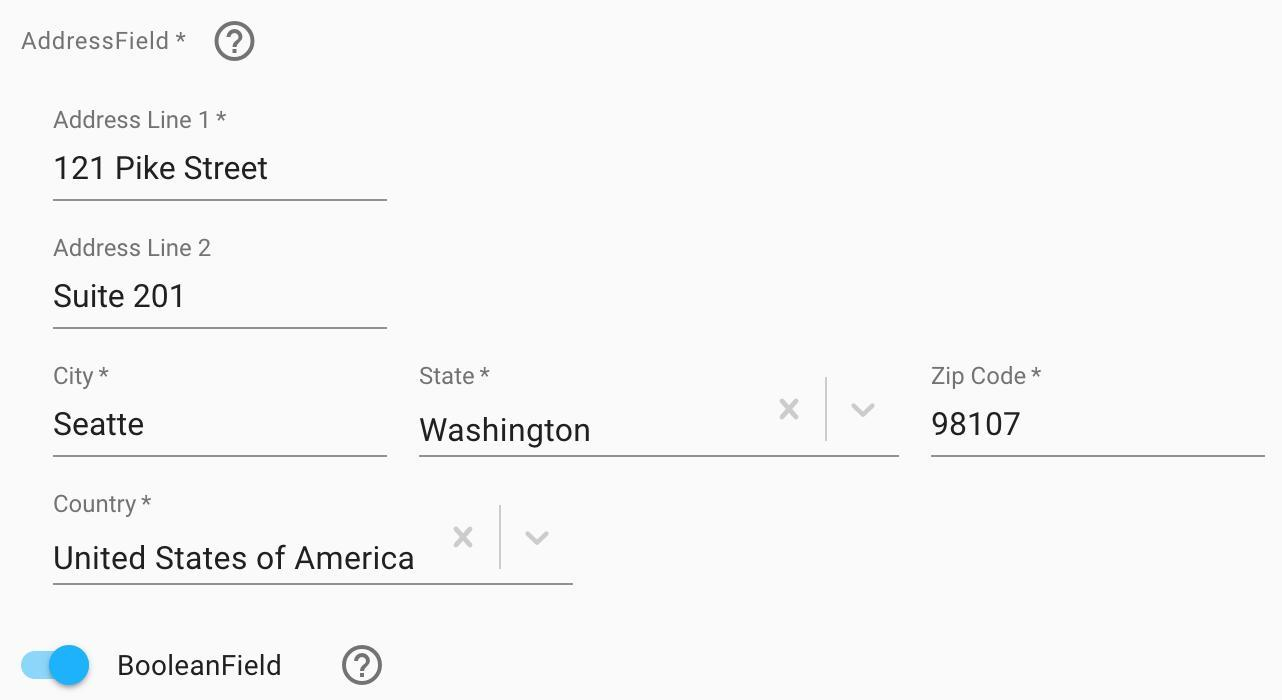icon: (446, 521, 490, 558), (773, 392, 806, 426), (227, 27, 247, 60), (354, 653, 375, 684)
label: (116, 652, 293, 685), (46, 109, 234, 140), (49, 235, 219, 264), (15, 29, 190, 57), (931, 356, 1048, 392), (49, 493, 160, 524), (409, 365, 505, 393), (46, 362, 120, 395)
switch: (16, 643, 92, 690)
